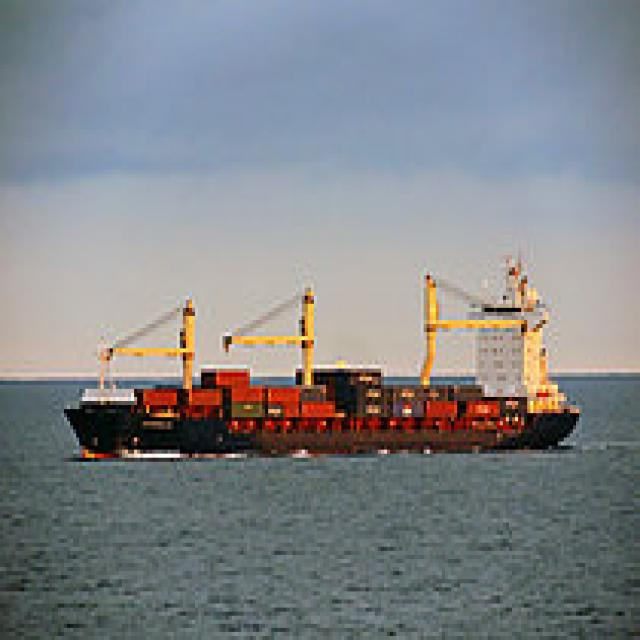Ship: (53, 228, 596, 471)
